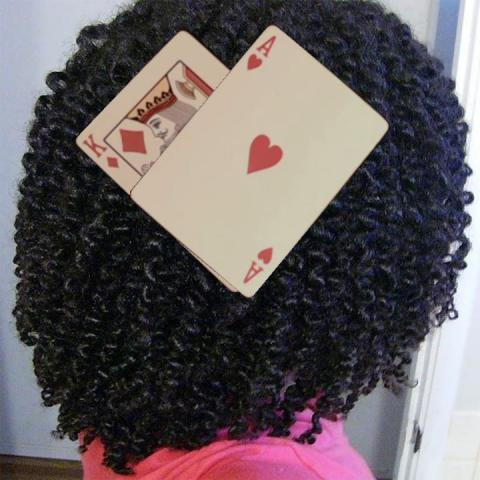Ah: (239, 244, 275, 286), (243, 33, 278, 72)
Kd: (80, 130, 122, 170)
